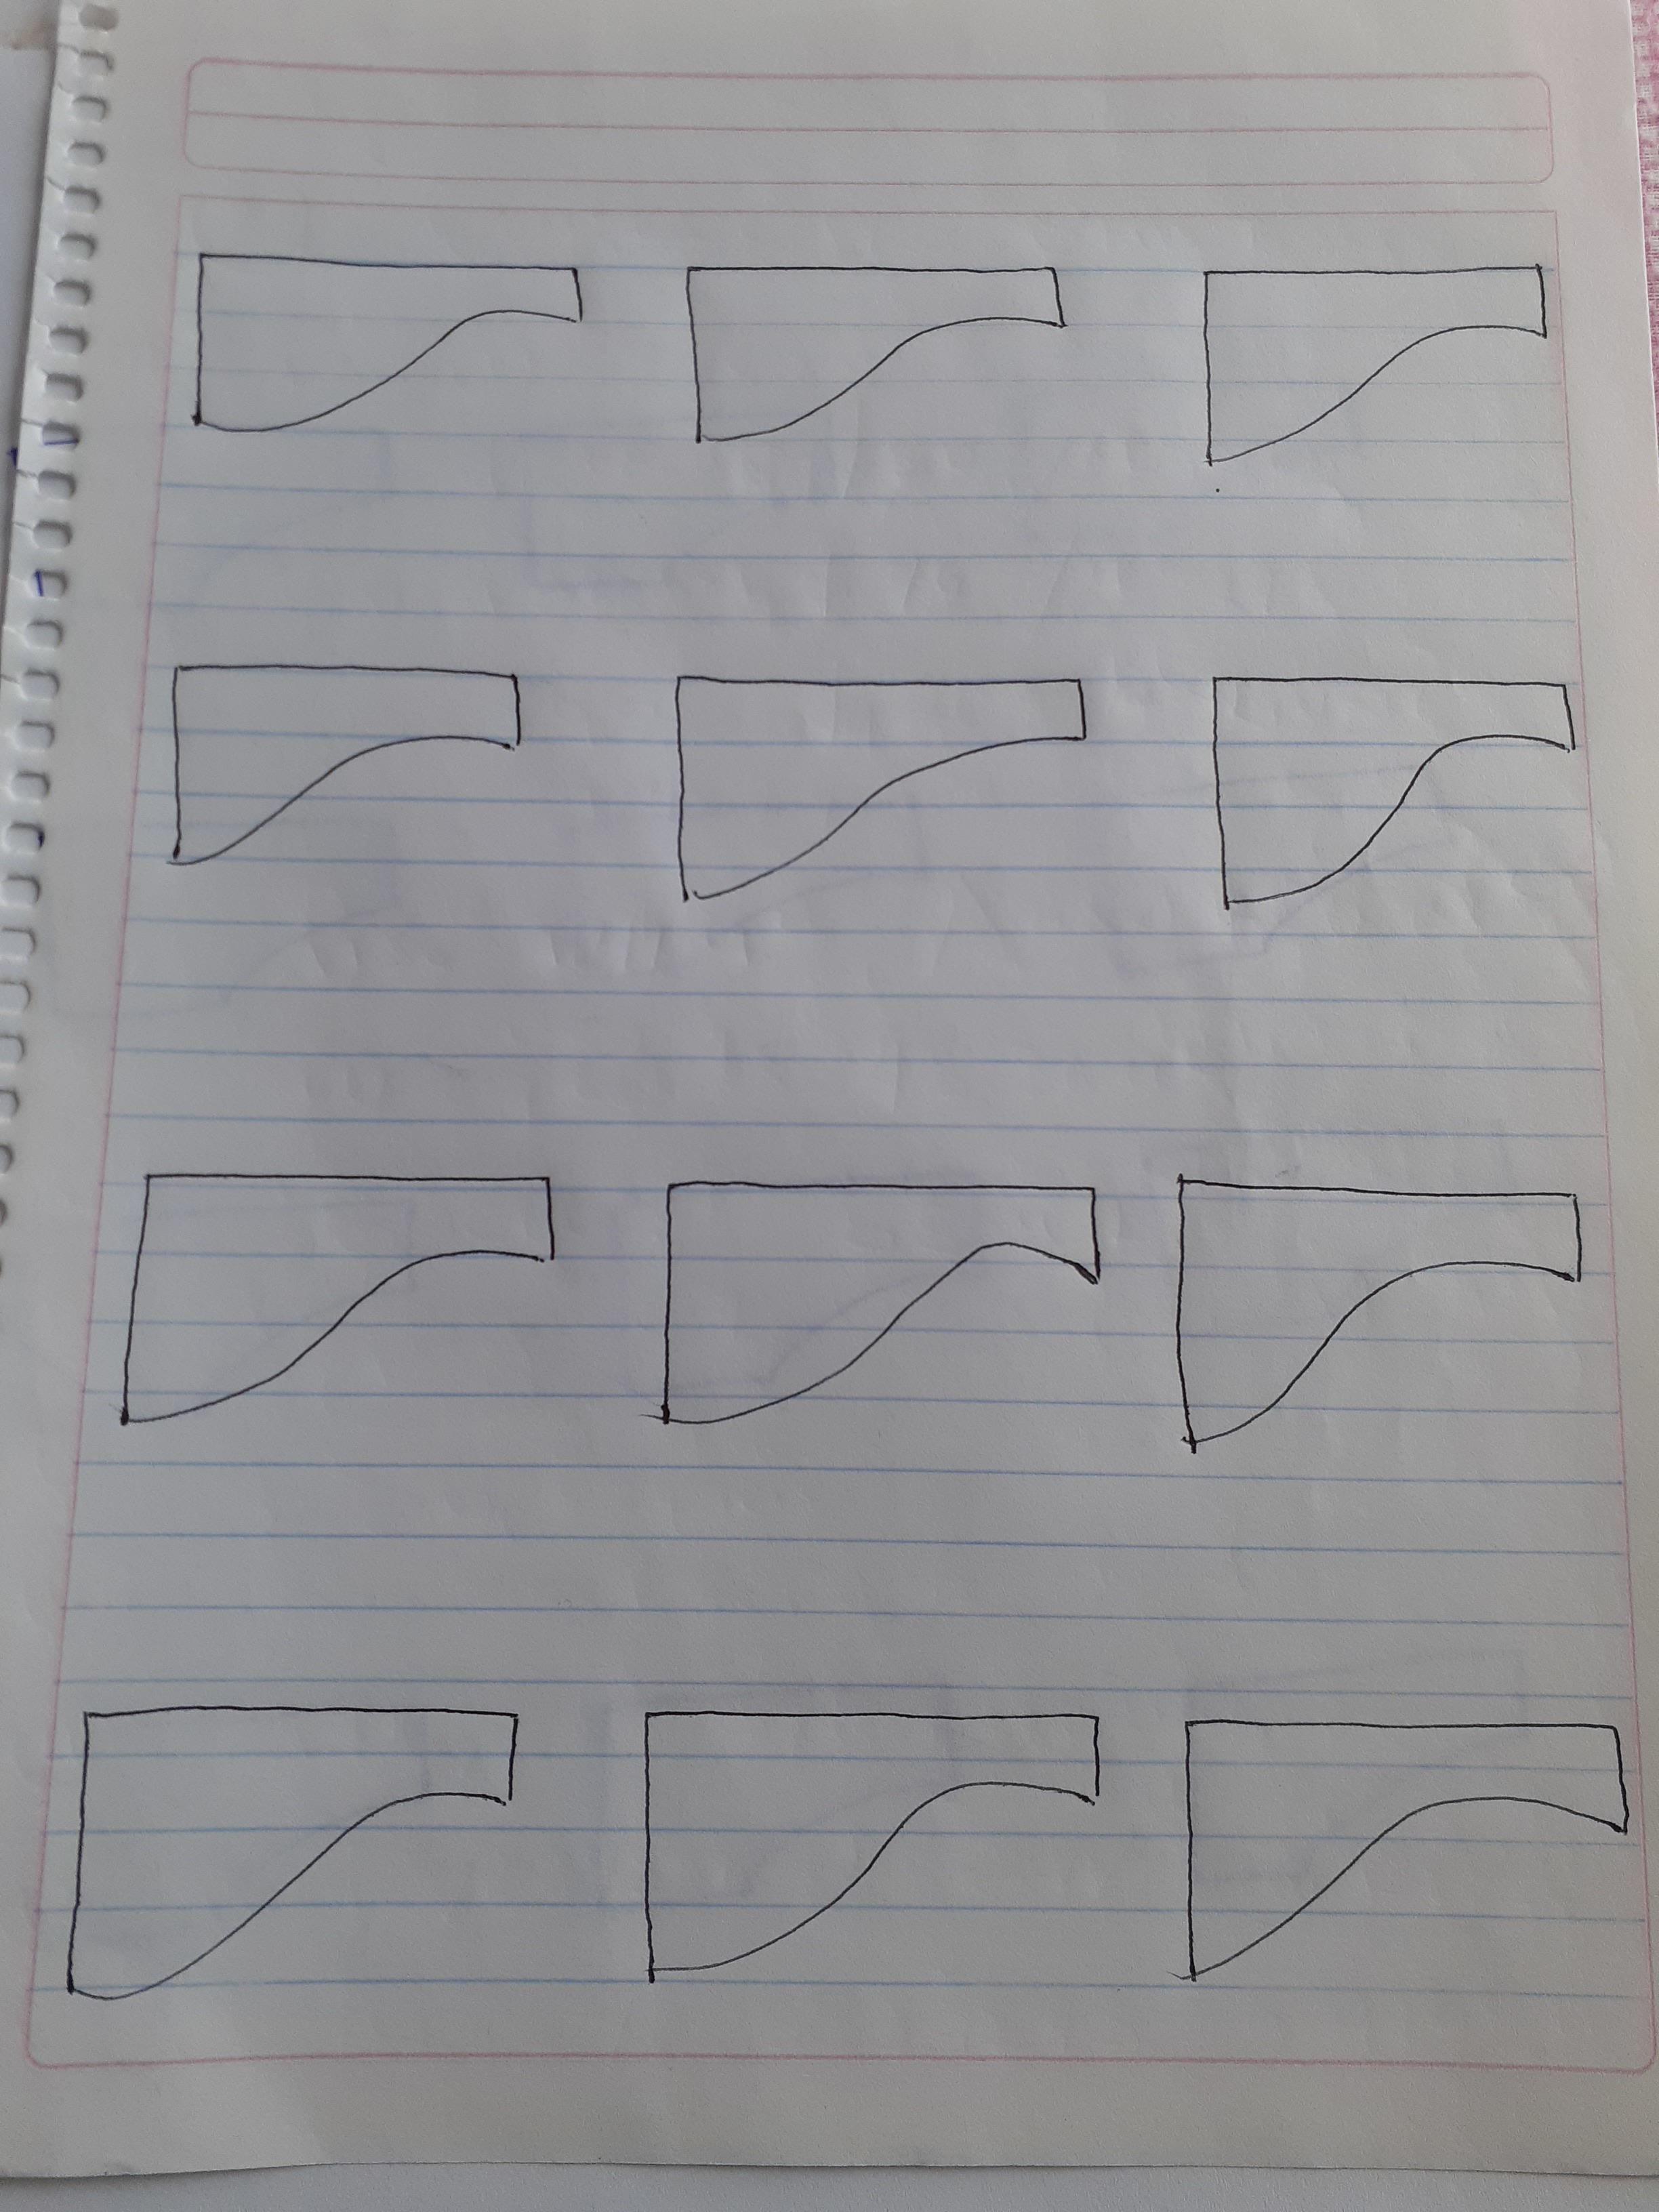print: (35, 1658, 545, 2013), (606, 1676, 1129, 2020), (1166, 1134, 1635, 1503), (113, 1116, 584, 1475), (645, 1137, 1122, 1489), (1162, 1679, 1657, 2005), (652, 615, 1143, 941), (1194, 648, 1624, 934), (153, 601, 545, 906), (178, 214, 613, 462), (1190, 228, 1586, 482), (667, 221, 1091, 458)
